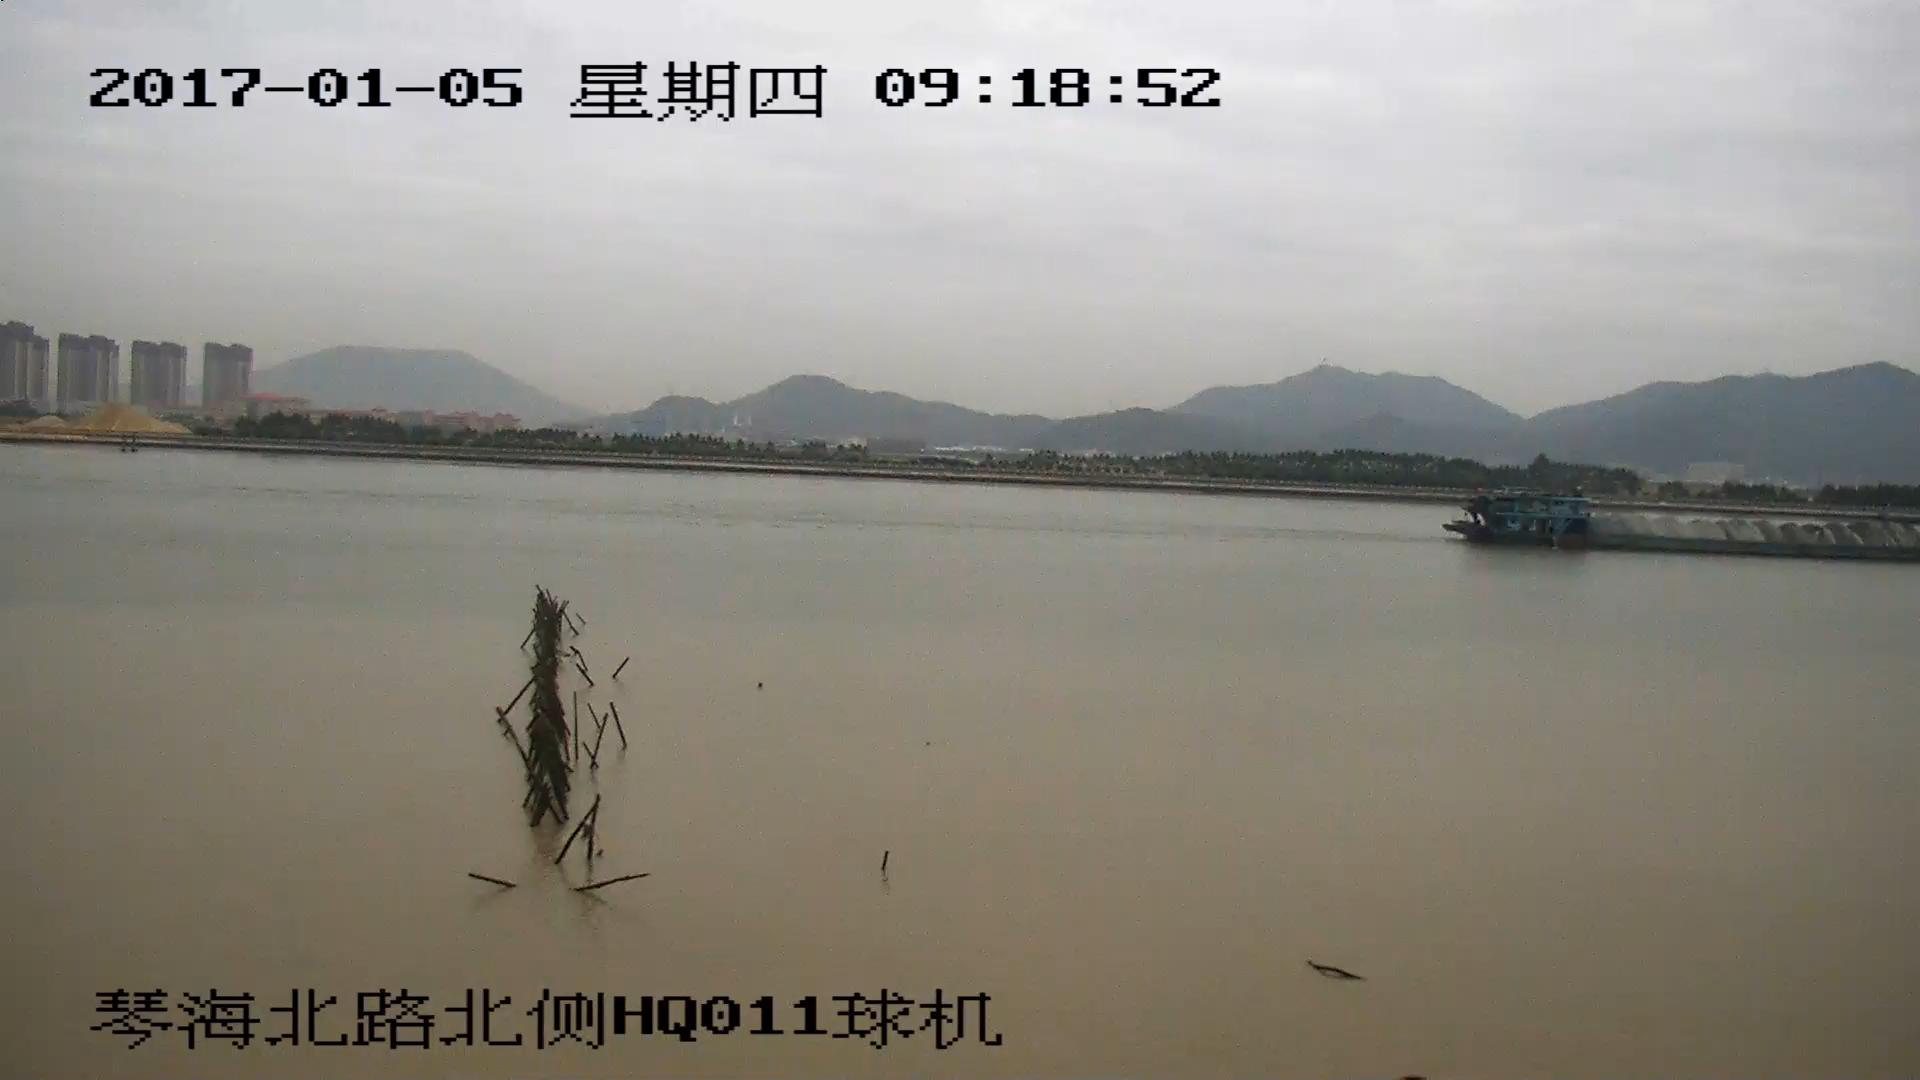ore carrier: (1454, 492, 1920, 562)
